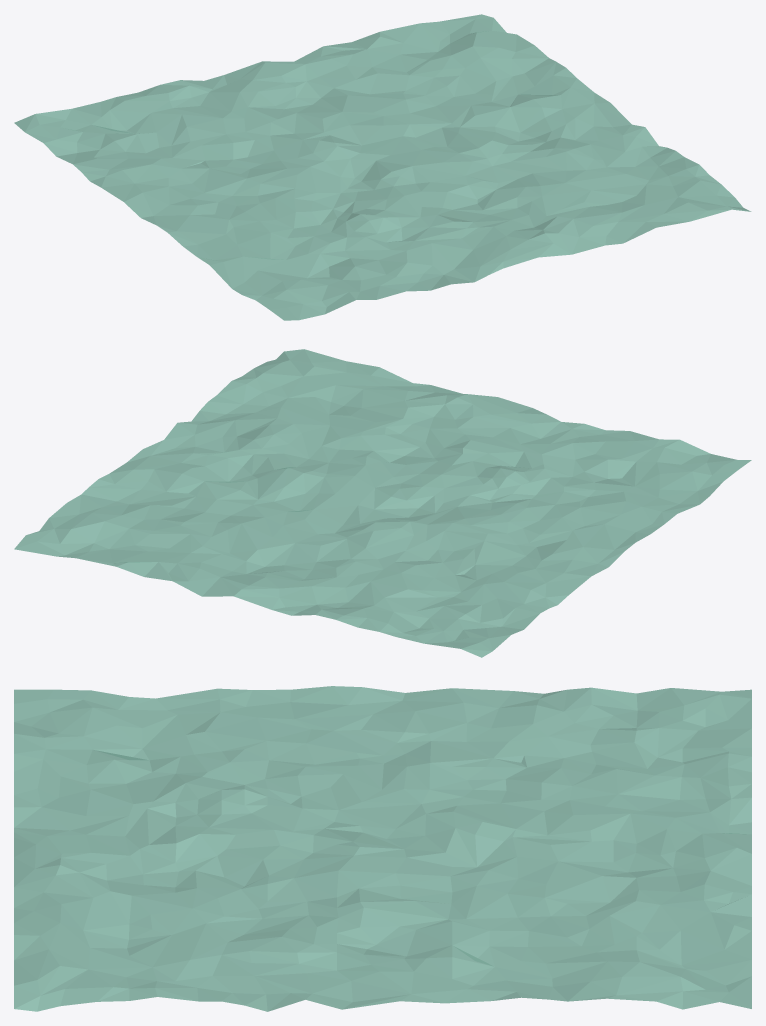
File: Ocean.fbx
The picture shows the model from 3 angles, top to bottom: view 1: azimuth 30°, elevation 25°; view 2: azimuth 150°, elevation 25°; view 3: azimuth 270°, elevation 25°; orthographic projection. The views are drawn at different scales.
Parts seen in each view (by area): view 1: Ocean; view 2: Ocean; view 3: Ocean.
Boxes of the visible parts, bbox=[...] form: Ocean: bbox=[14, 14, 751, 320]; Ocean: bbox=[14, 349, 751, 657]; Ocean: bbox=[14, 686, 751, 1011].
Size of the model in its own units: 5877 by 212 by 5877.
